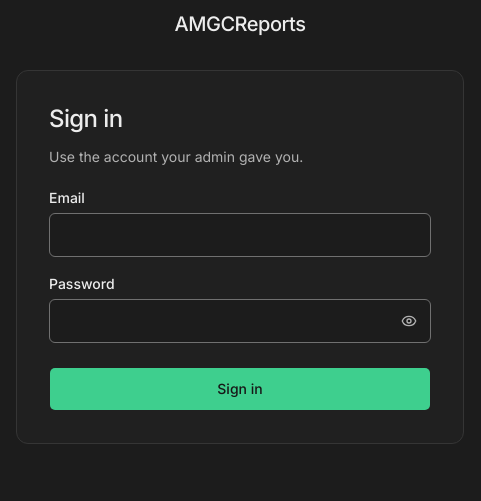
Test: login page › shows the server's 403 message: Your account is inactive. Contact your admin.
The width and height of the screenshot is (481, 501).
Type "a@b.c" into the field labelled "Email" at (240, 235), box [49, 213, 431, 257]
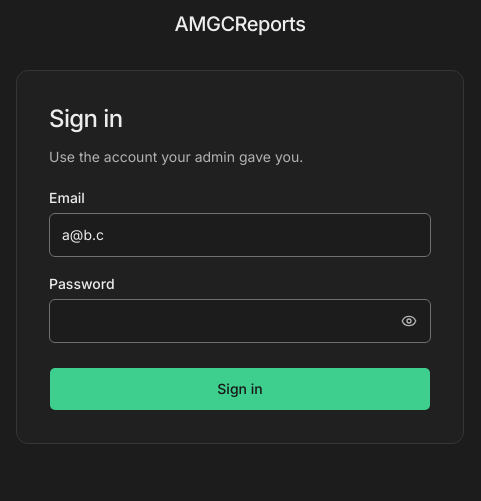
Type "x" into the password field labelled "Password" at (240, 321), box [49, 299, 431, 343]
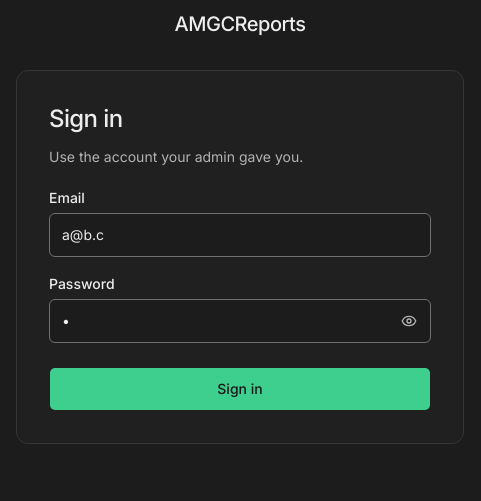
Click the button "Sign in" at (240, 389), box [49, 367, 431, 411]
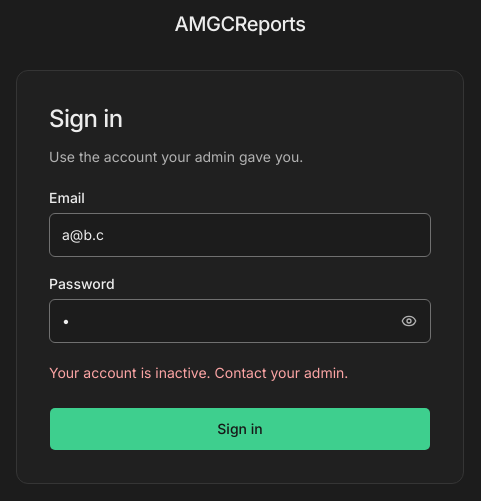
expect the text "Your account is inactive. Contact your admin." is shown: met, box [49, 364, 348, 381]
